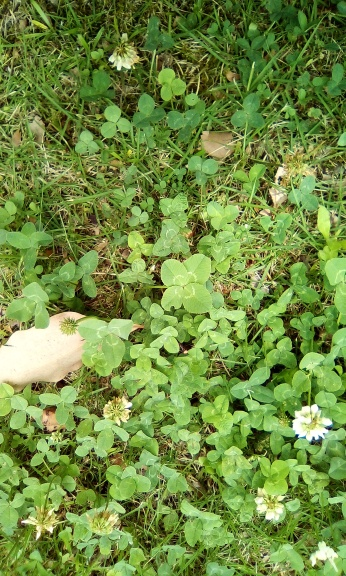4leaf: (160, 253, 213, 313)
